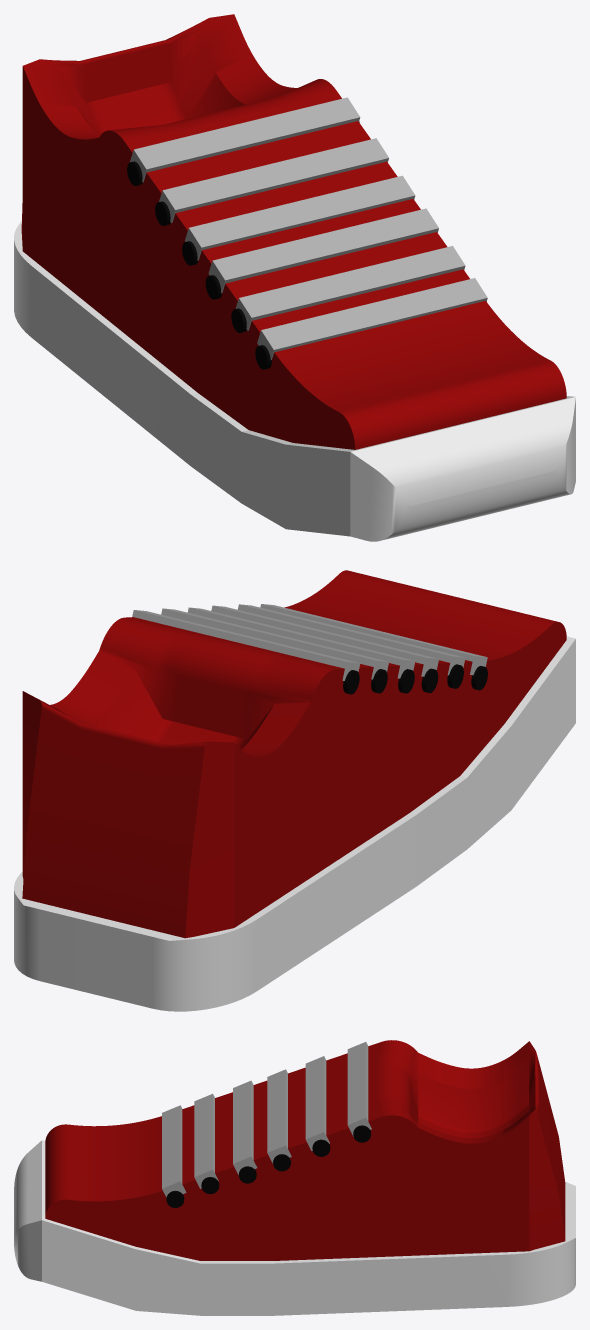
File: Shoe.fbx
3 renders of one model, top to bottom at view 1: azimuth 30°, elevation 25°; view 2: azimuth 150°, elevation 25°; view 3: azimuth 270°, elevation 25°, orthographic. The views are drawn at different scales.
Parts seen in each view (by area): view 1: pasted__pasted__pCylinder1; view 2: pasted__pasted__pCylinder1; view 3: pasted__pasted__pCylinder1.
Boxes of the visible parts, <box> form: pasted__pasted__pCylinder1: <box>14,14,575,541</box>; pasted__pasted__pCylinder1: <box>14,570,575,1011</box>; pasted__pasted__pCylinder1: <box>14,1040,575,1315</box>.
Size of the model in its own units: 21.21 by 24.44 by 62.86.
